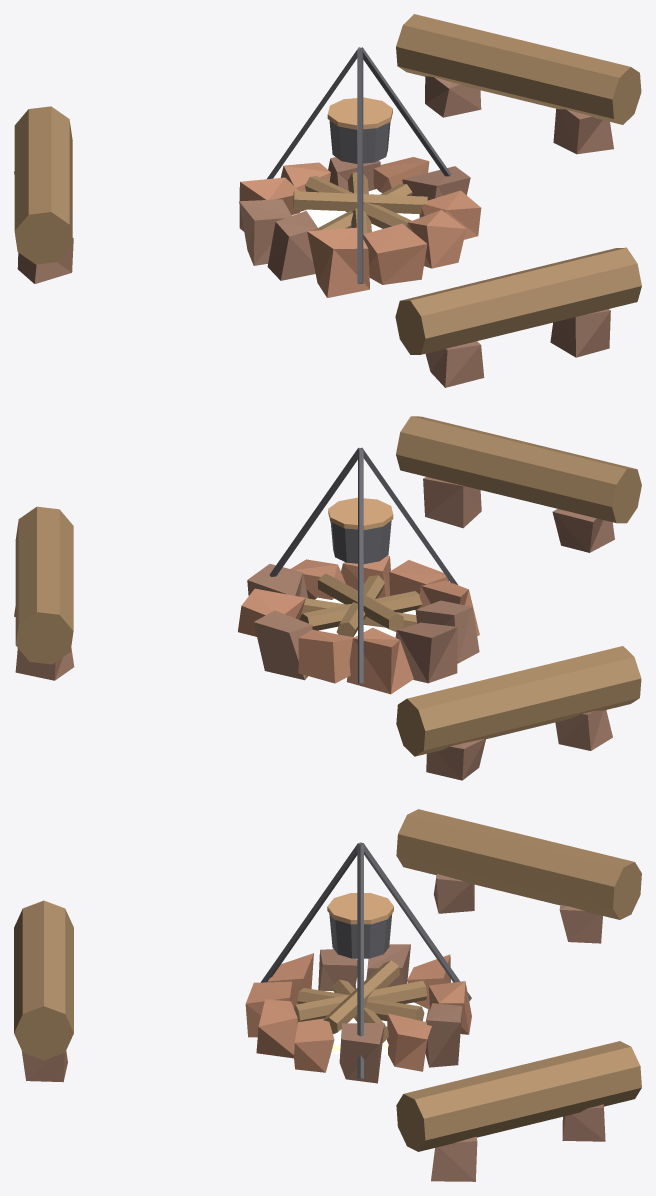
The model's file is lobby_campfire.glb.
3 renders of one model, top to bottom at view 1: azimuth 30°, elevation 25°; view 2: azimuth 150°, elevation 25°; view 3: azimuth 270°, elevation 25°, orthographic.
Visible parts, largest first — view 1: LobbyCampfire; view 2: LobbyCampfire; view 3: LobbyCampfire.
Boxes of the visible parts, x1,y1,x2,y2 form: LobbyCampfire: [14, 14, 641, 387]; LobbyCampfire: [14, 416, 641, 780]; LobbyCampfire: [14, 809, 641, 1181].
Bounding box in the file's own units: 4.34 × 1.32 × 3.77.
